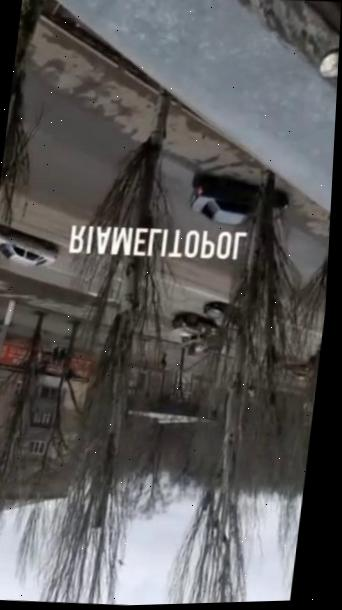armored_car: (166, 309, 236, 358)
car: (186, 175, 291, 231), (0, 222, 59, 271), (199, 299, 253, 331)
